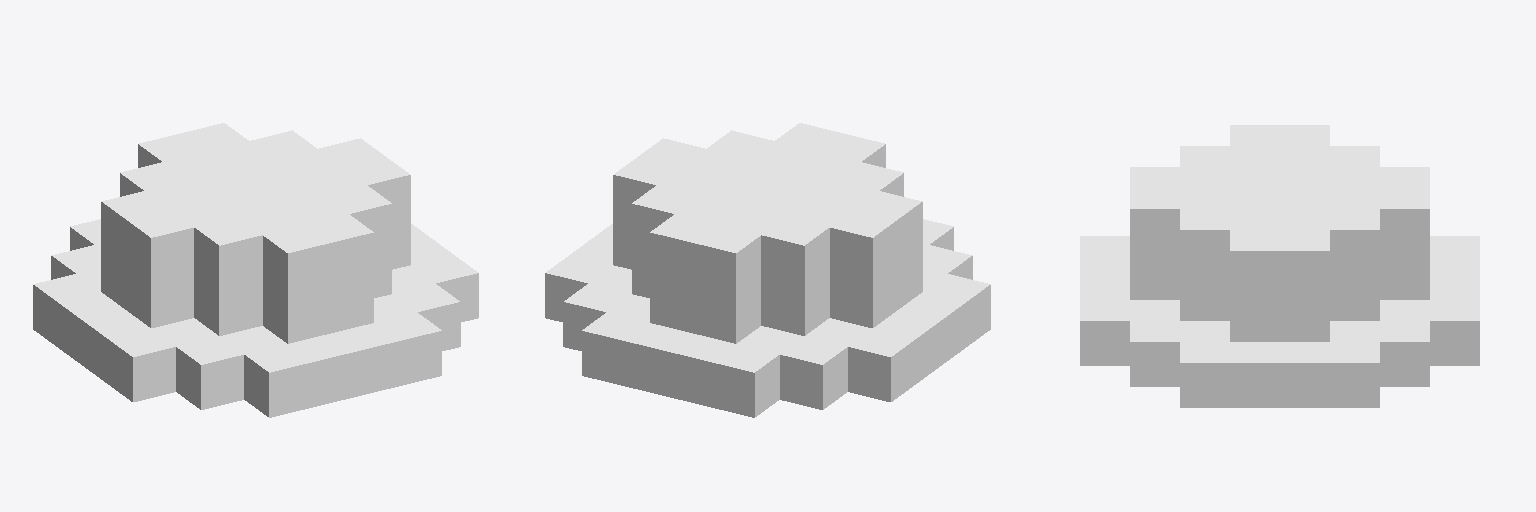
The model's file is button-1-up.obj.
3 views of the same model, side by side, from view 1: azimuth 30°, elevation 25°; view 2: azimuth 150°, elevation 25°; view 3: azimuth 270°, elevation 25° (orthographic).
Parts seen in each view (by area): view 1: up; view 2: up; view 3: up.
Part boxes in pixels (x1,y1,x2,y2): up: (33, 123, 478, 417); up: (545, 123, 990, 417); up: (1080, 125, 1479, 407).
Size of the model in its own units: 0.8 by 0.3 by 0.8.